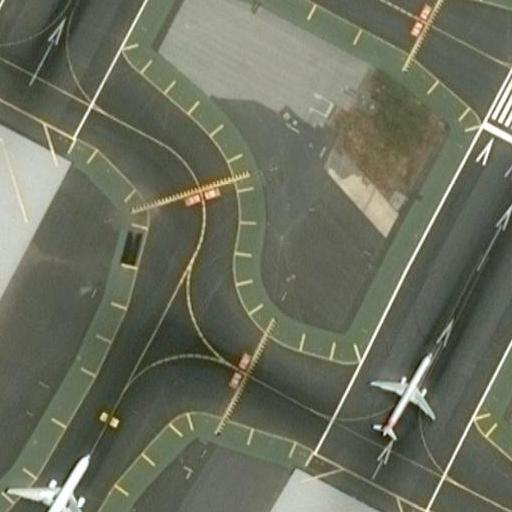Aircraft: (364, 345, 437, 444), (2, 455, 105, 512)
